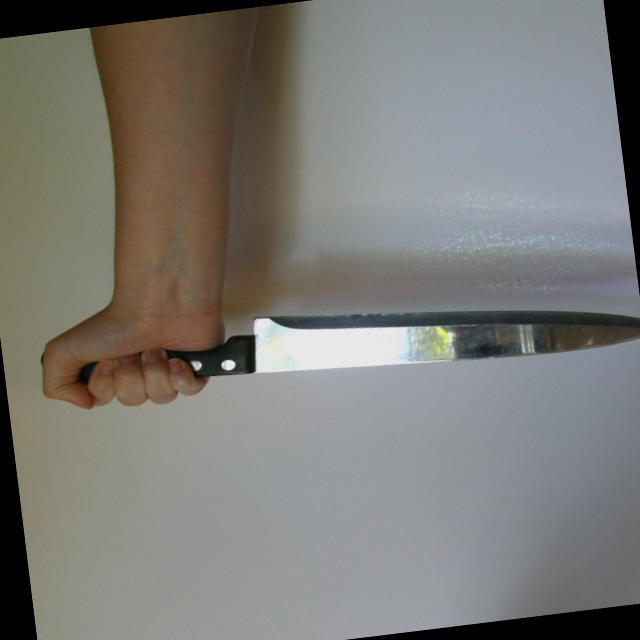knife: (89, 265, 639, 418)
